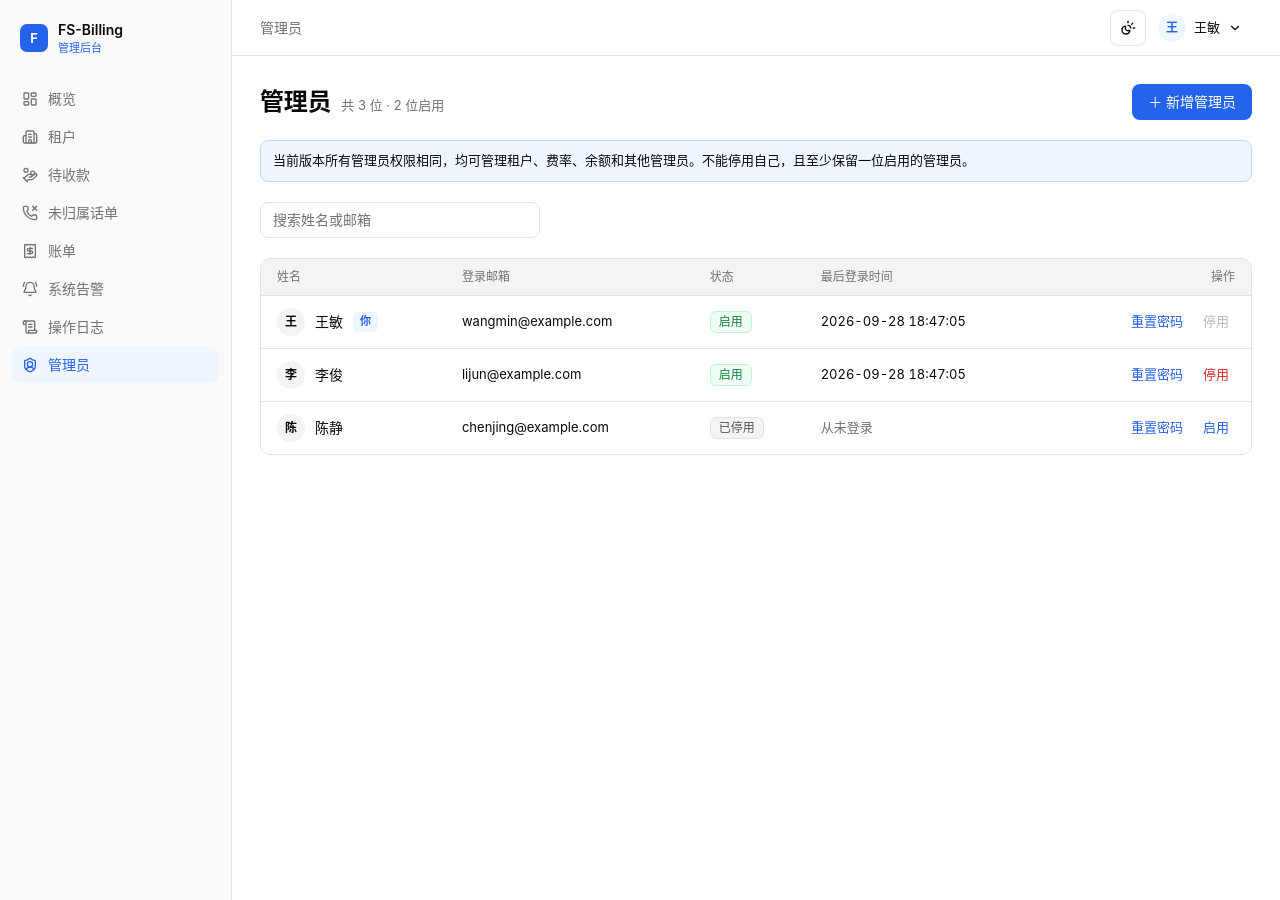
Test case: admin status and reset › maps a server SELF_DISABLE refusal
Click the button with aria-label "停用 李俊" at (1216, 374), box [1197, 358, 1235, 390]
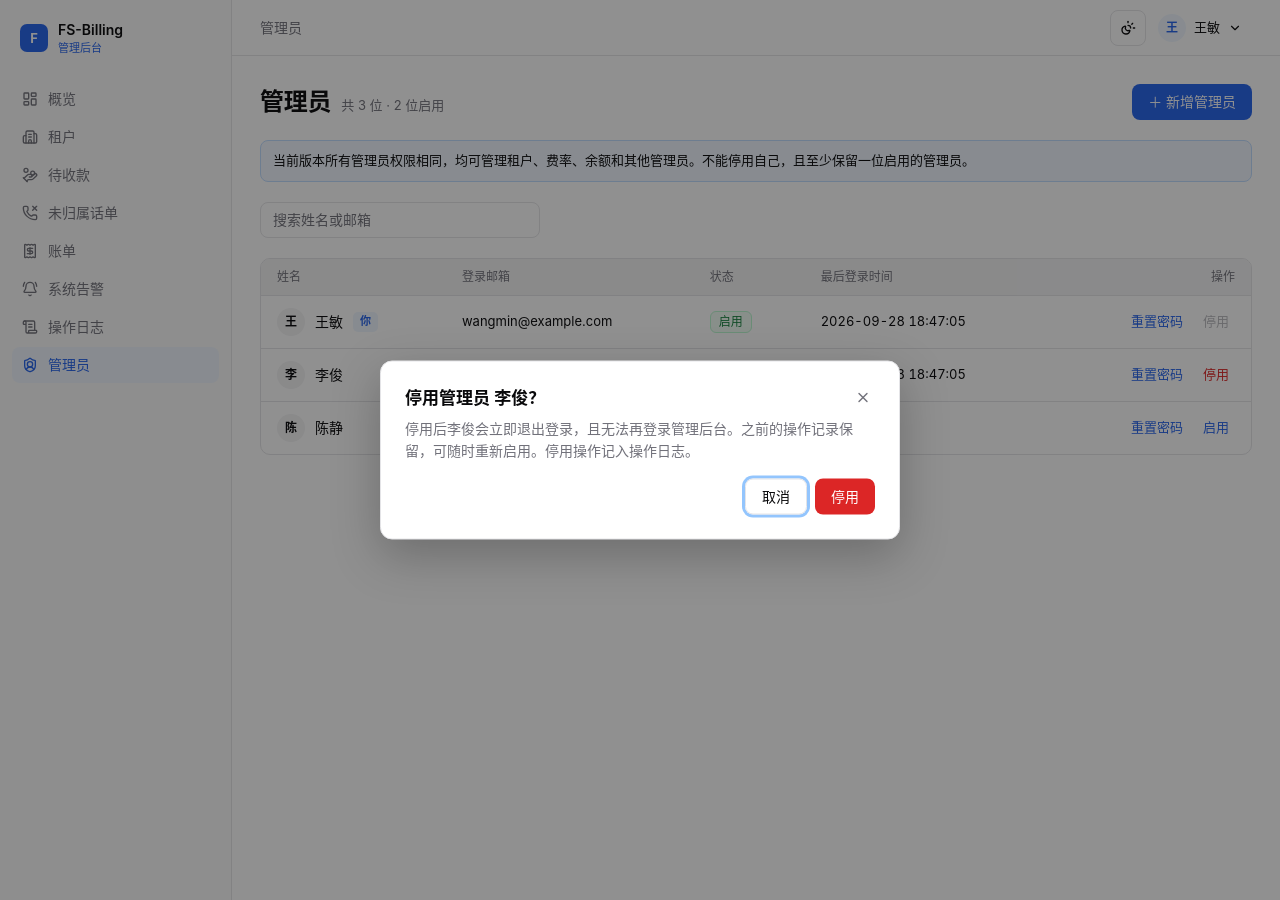
Click the button "停用" at (845, 496), box [815, 478, 875, 514]
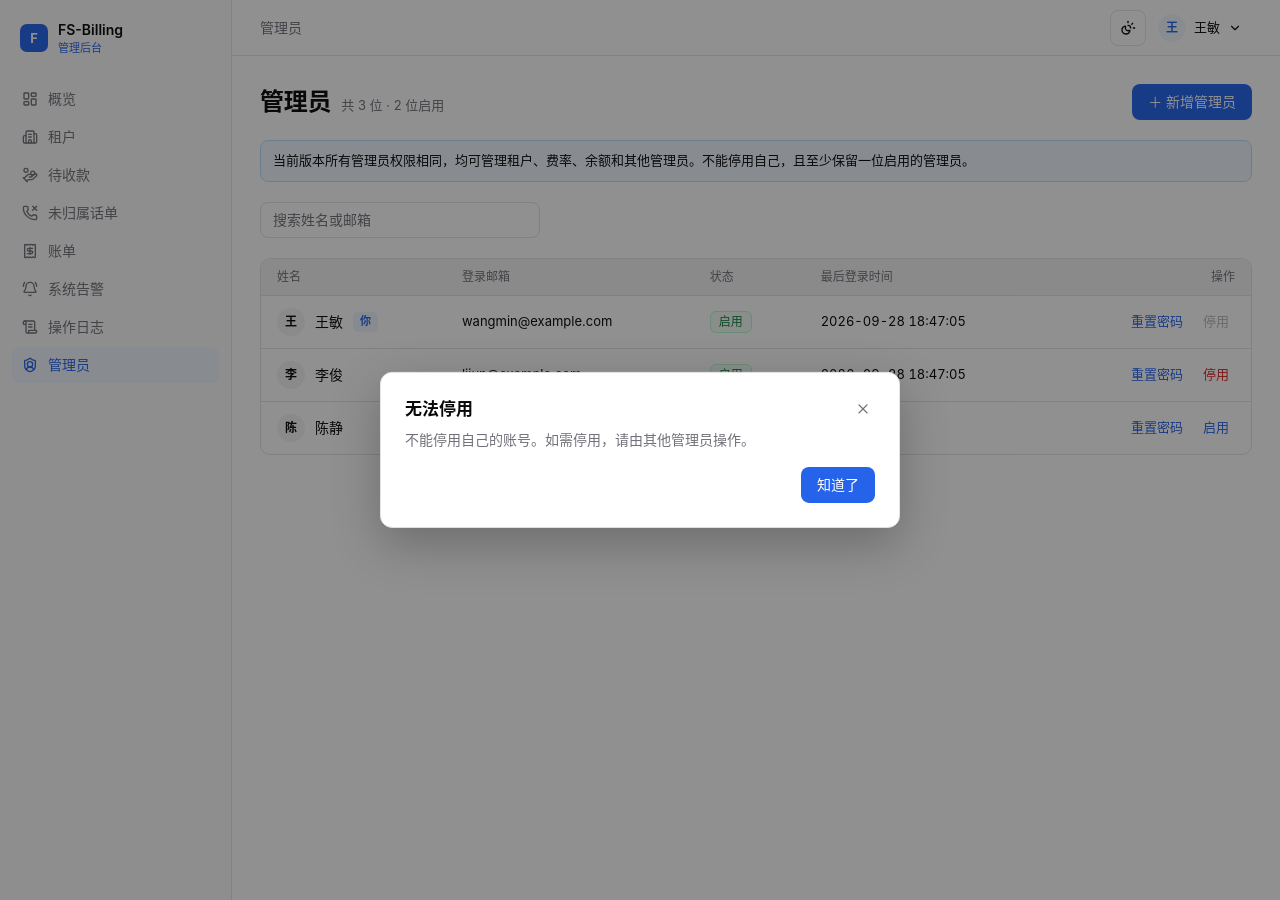
Expected: the dialog "无法停用" shows "不能停用自己的账号", [405, 430, 755, 447]
